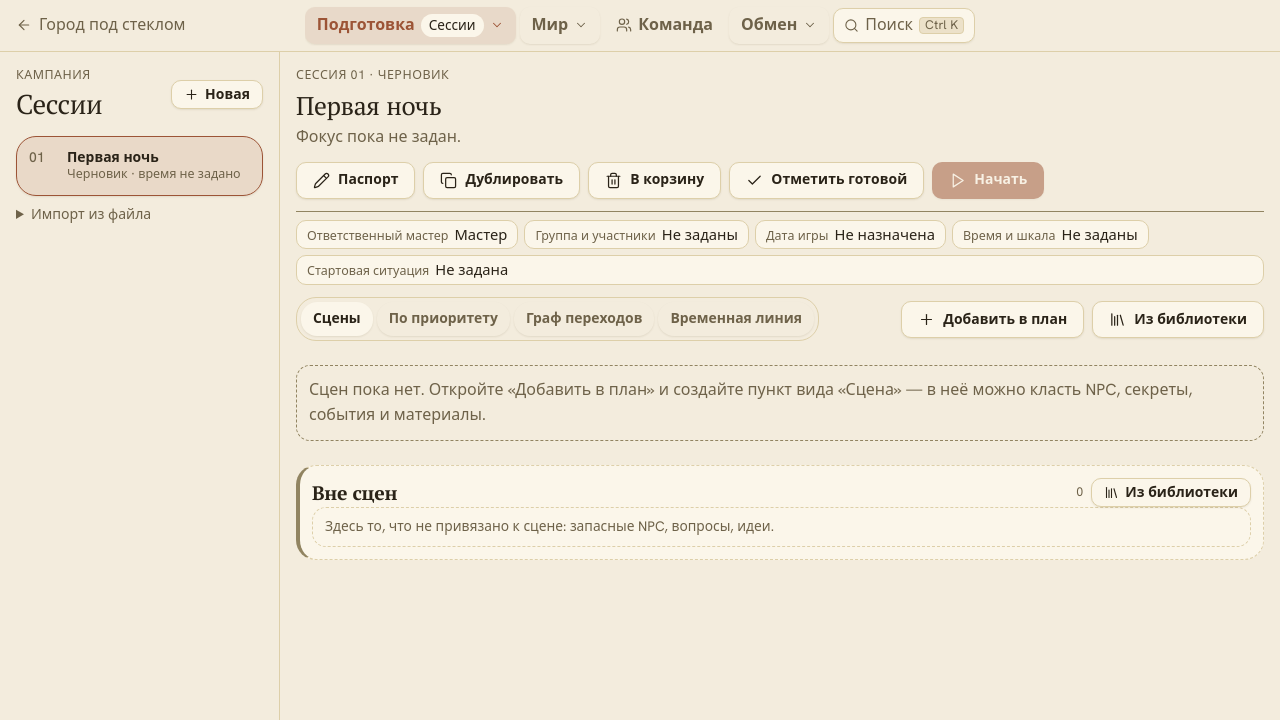
stage 1: secrets › links a secret to a session plan item
Click the 1st button "Из библиотеки" at {"x": 1178, "y": 319}, box x1=1092 y1=301 x2=1264 y2=338
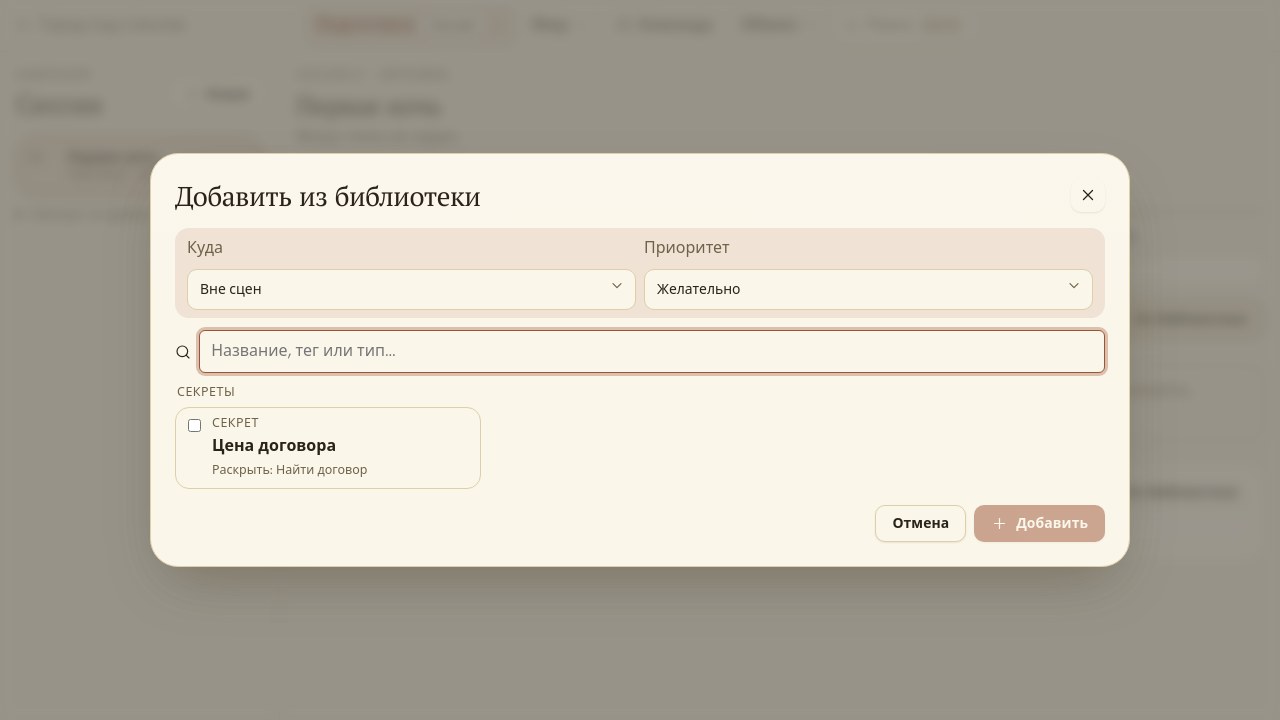
Click the checkbox labelled "Секрет Цена договора Раскрыть: Найти договор" at {"x": 194, "y": 426}, box x1=188 y1=419 x2=201 y2=432
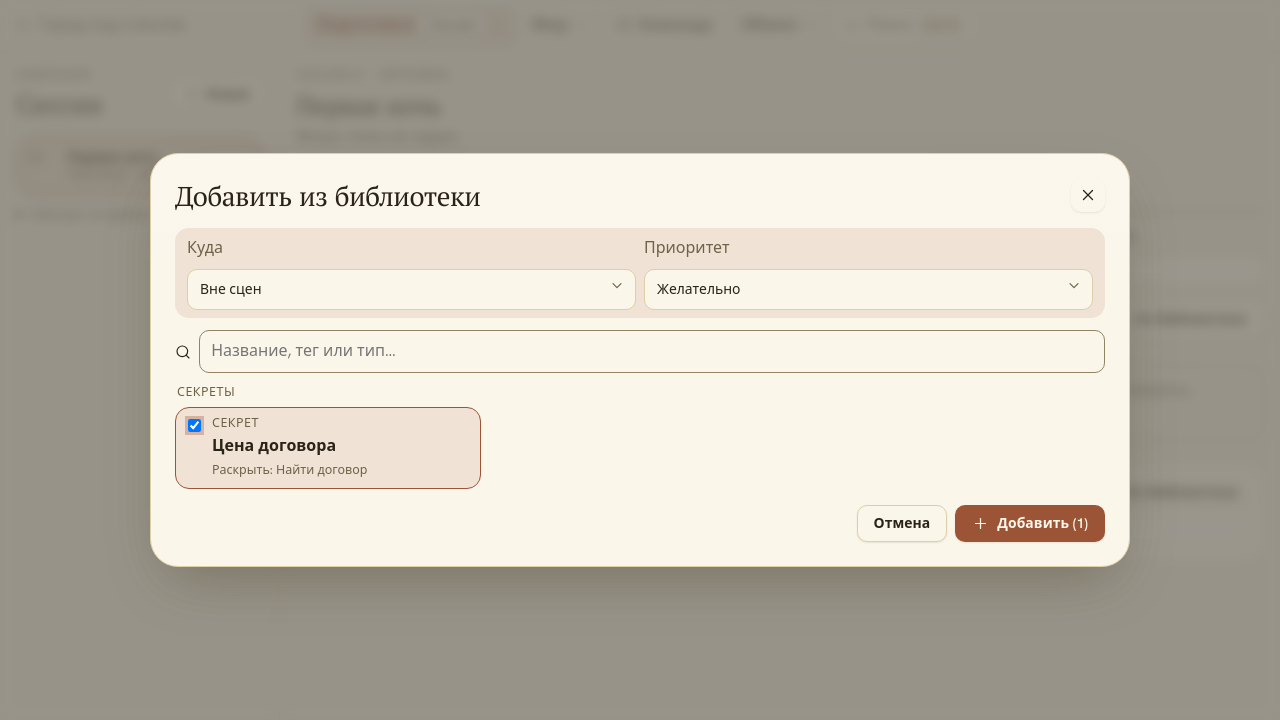
Click the button "Добавить (1)" at {"x": 1030, "y": 524}, box x1=955 y1=505 x2=1105 y2=542
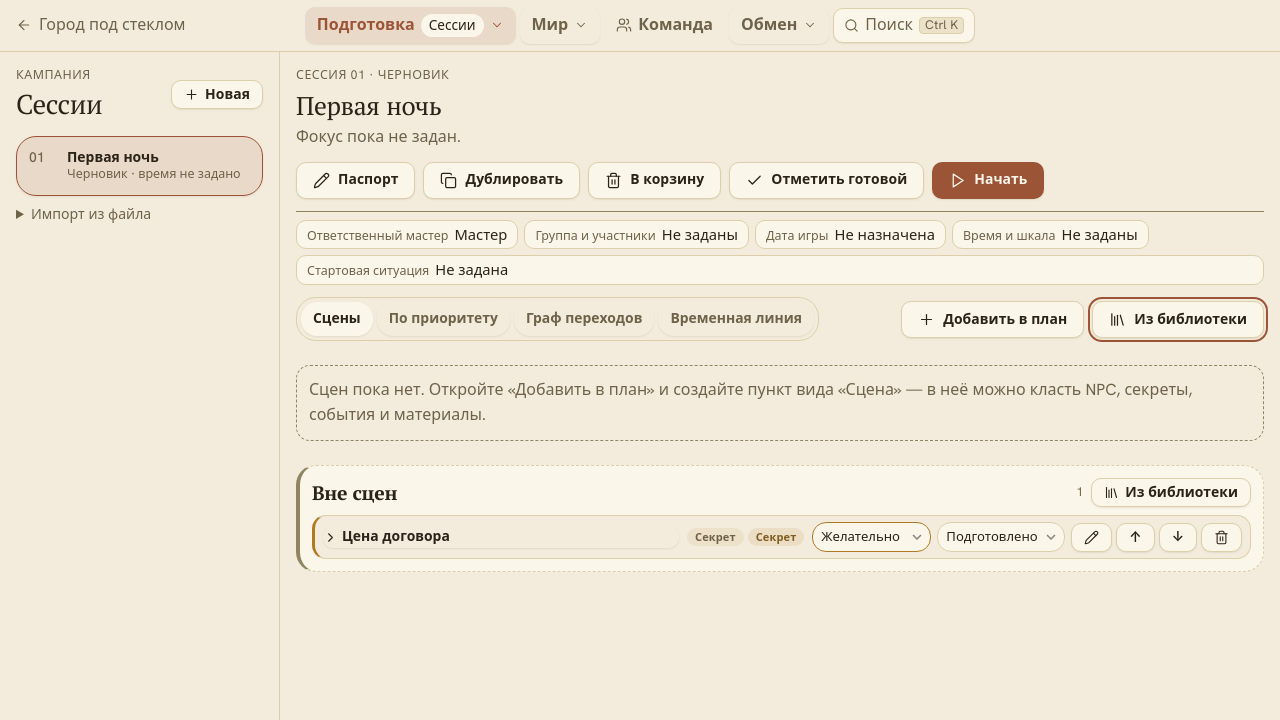
Check: the element named "Пункт плана: Цена договора" is shown, box x1=312 y1=515 x2=1251 y2=559
